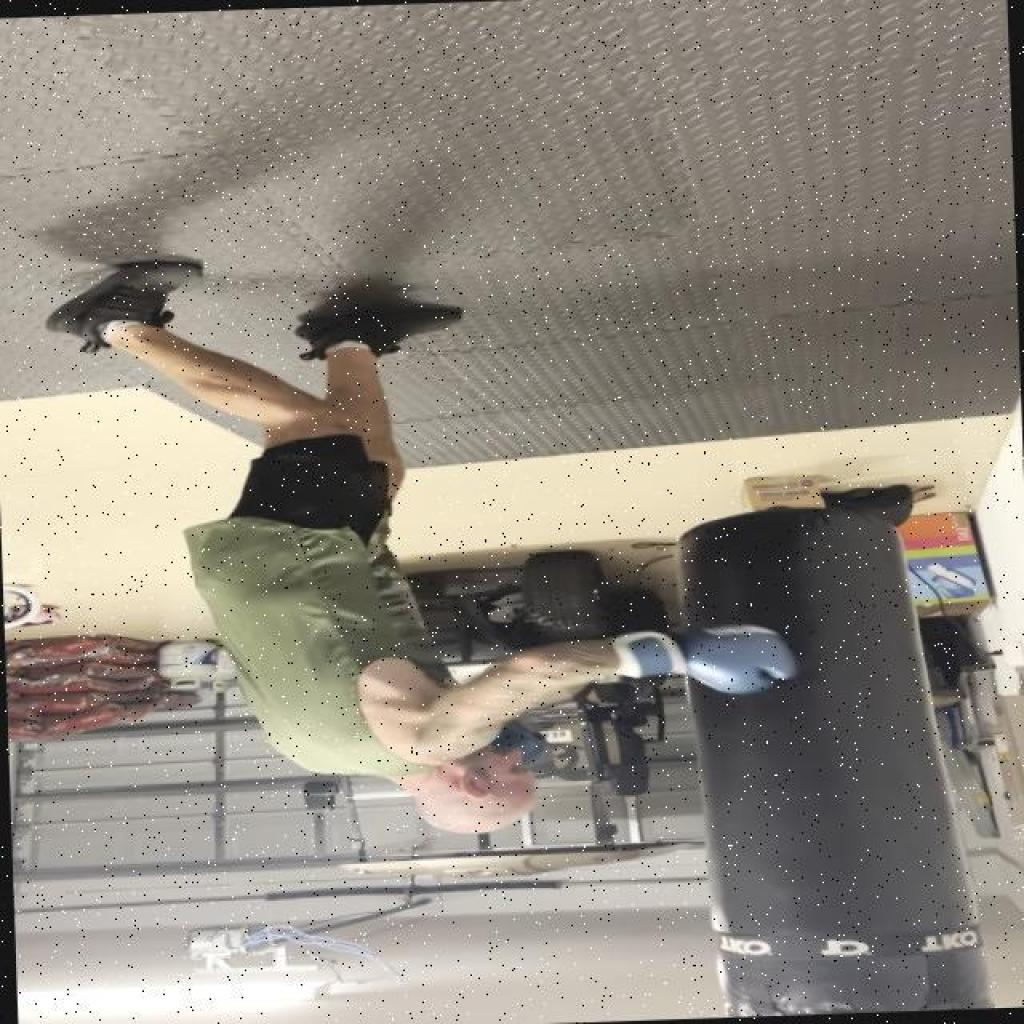bag: (682, 504, 963, 1019)
hook: (204, 584, 834, 858)
